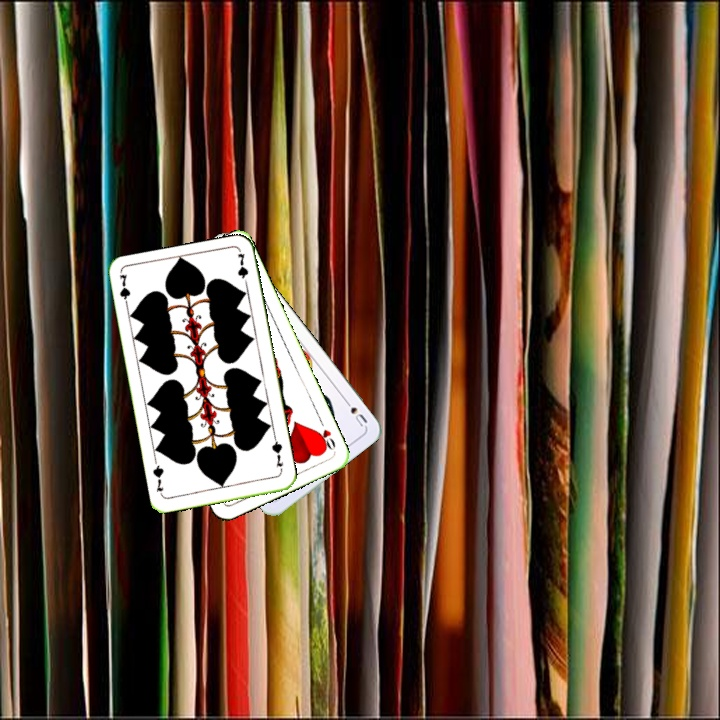G7: (115, 270, 133, 311), (267, 434, 286, 470)
HO: (313, 415, 338, 454)
SU: (339, 394, 370, 429)
